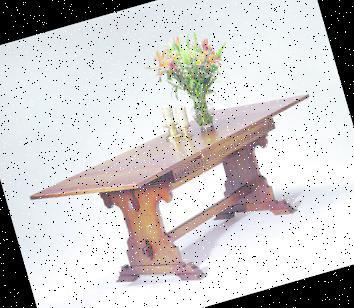Mesa: (22, 81, 347, 307)
